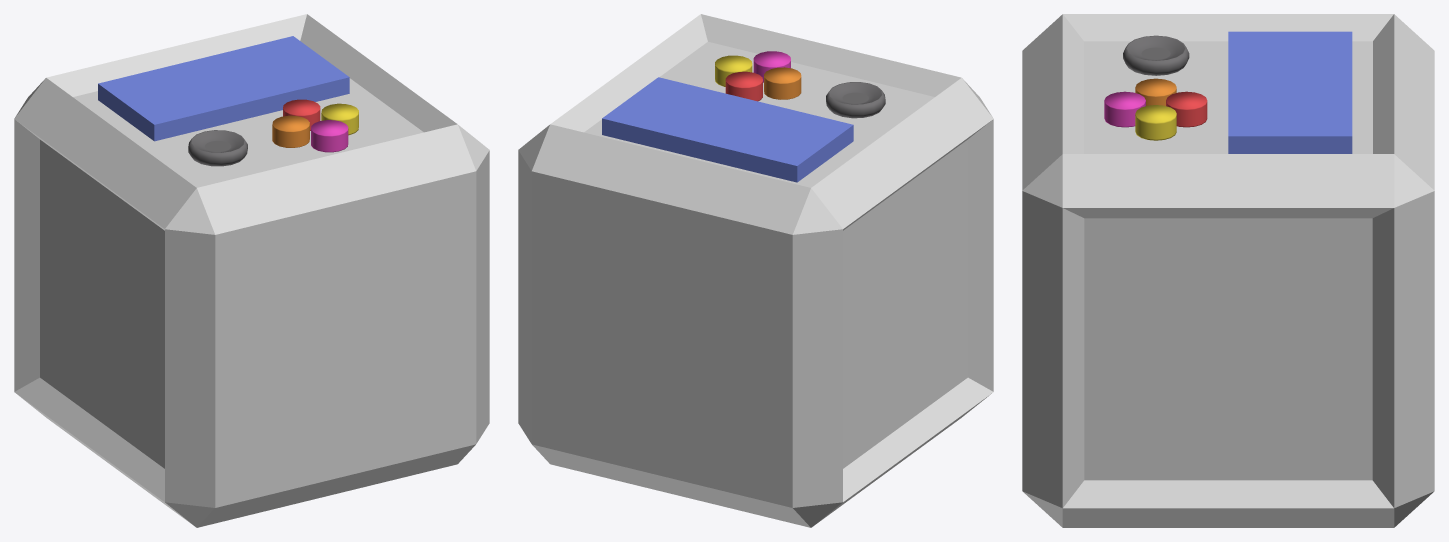
File: Computer.fbx
3 views of the same model, side by side, from view 1: azimuth 30°, elevation 25°; view 2: azimuth 150°, elevation 25°; view 3: azimuth 270°, elevation 25° (orthographic). The views are drawn at different scales.
Parts seen in each view (by area): view 1: Cylinder.001; view 2: Cylinder.001; view 3: Cylinder.001.
Part boxes in pixels (x1,y1,x2,y2): Cylinder.001: (14, 14, 489, 527); Cylinder.001: (518, 14, 993, 527); Cylinder.001: (1022, 14, 1434, 527).
Size of the model in its own units: 200 by 200 by 200.
